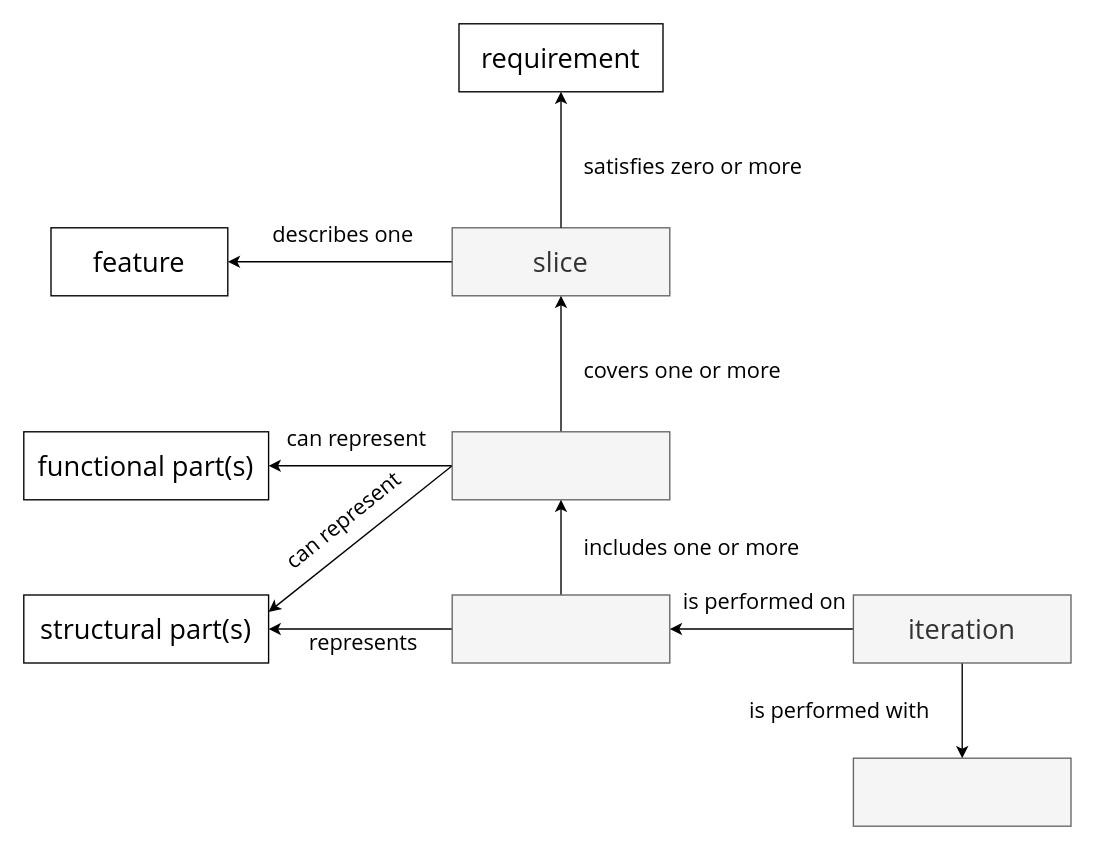
The diagram is 1095 pixels wide and 850 high, and some of its shapes have lost their labels. The centre of each missing label's shape, as x and y in pixels:
"fidelity" goes at (961,791).
"module" goes at (560,465).
"partition" goes at (560,628).
